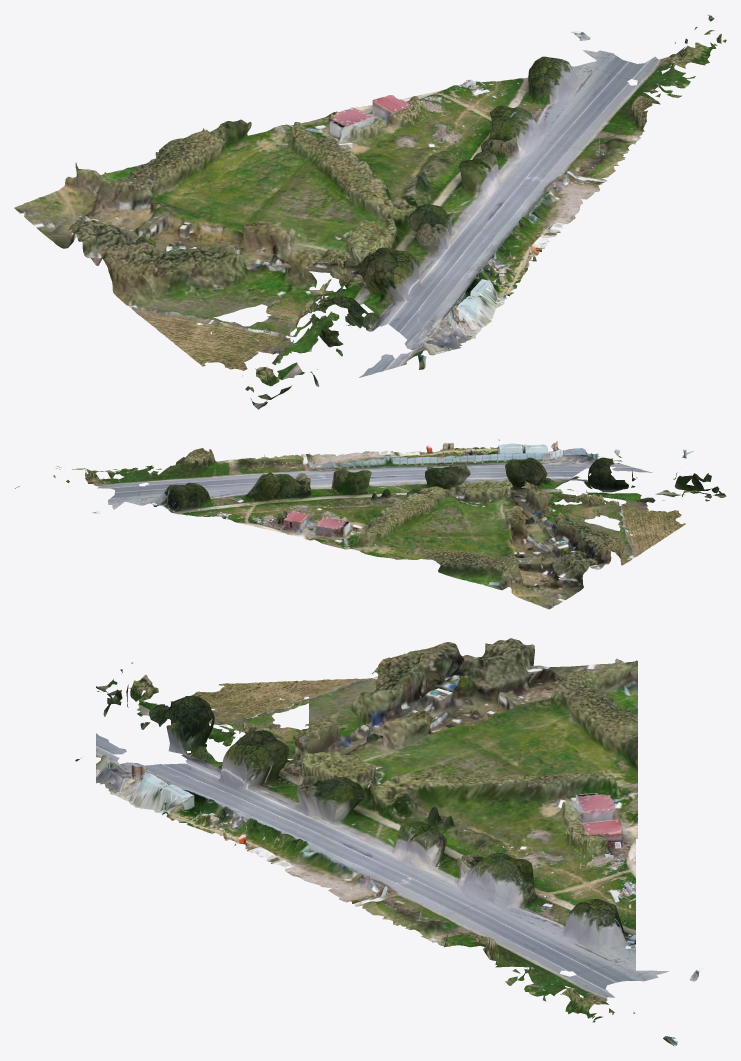
File: bairro_03.glb
3 views of the same model, one above another, from view 1: azimuth 30°, elevation 25°; view 2: azimuth 150°, elevation 25°; view 3: azimuth 270°, elevation 25° (orthographic). The views are drawn at different scales.
Visible parts, largest first — view 1: bairro_03; view 2: bairro_03; view 3: bairro_03.
Boxes of the visible parts, x1=… form: bairro_03: x1=14, y1=14, x2=726, y2=409; bairro_03: x1=15, y1=439, x2=726, y2=609; bairro_03: x1=75, y1=638, x2=704, y2=1046.
Size of the model in its own units: 161 by 12.81 by 125.
Materials: 1 (1 with a texture image).
